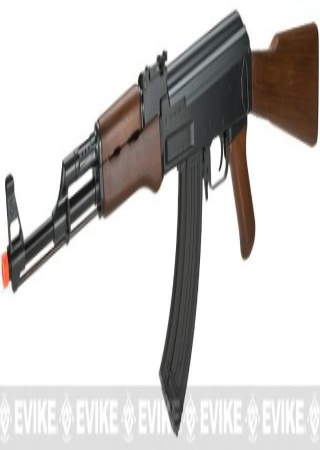rifle: (1, 6, 318, 346)
